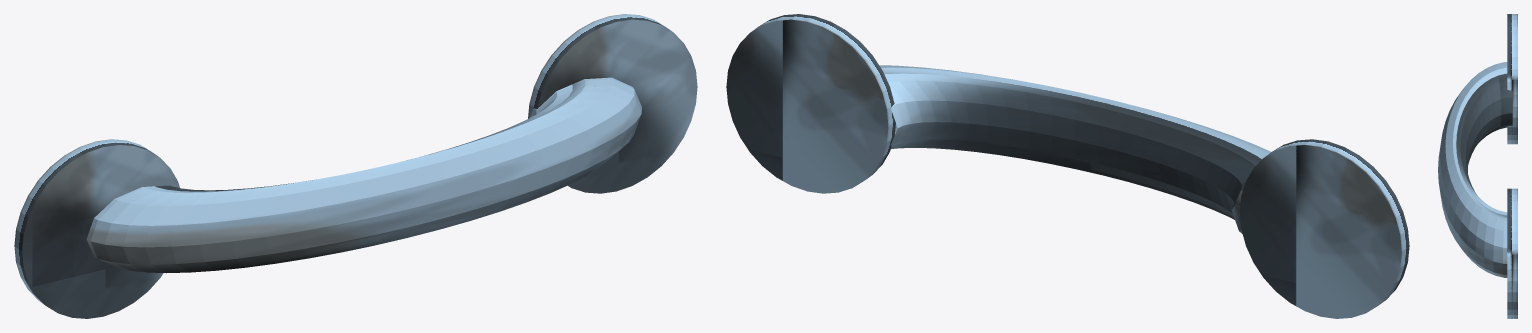
File: clamp.fbx
The picture shows the model from 3 angles, left to right: view 1: azimuth 30°, elevation 25°; view 2: azimuth 150°, elevation 25°; view 3: azimuth 270°, elevation 25°; orthographic projection. The views are drawn at different scales.
Parts seen in each view (by area): view 1: Torus.001; view 2: Torus.001; view 3: Torus.001.
Part boxes in pixels (left/top/right/bottom): Torus.001: left=14, top=14, right=697, bottom=318; Torus.001: left=726, top=14, right=1409, bottom=318; Torus.001: left=1438, top=14, right=1517, bottom=318.
Bounding box in the file's own units: 91.11 × 21.86 × 13.4.
1 material, 1 textured.
